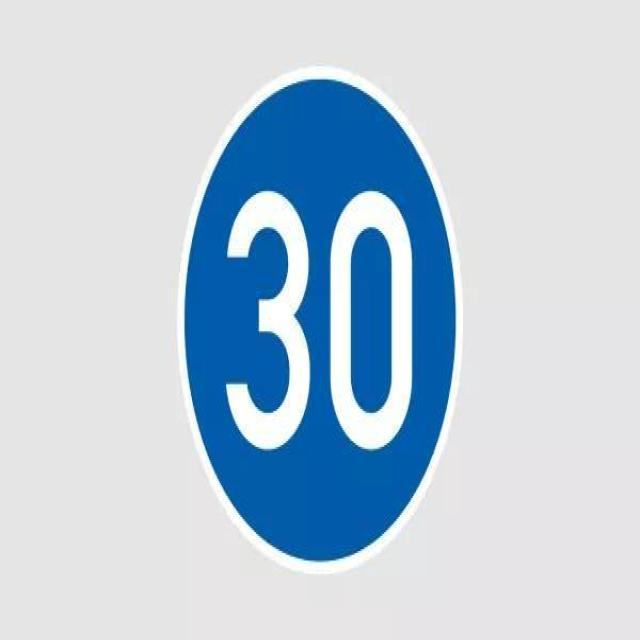speed limit 30: (176, 64, 463, 570)
